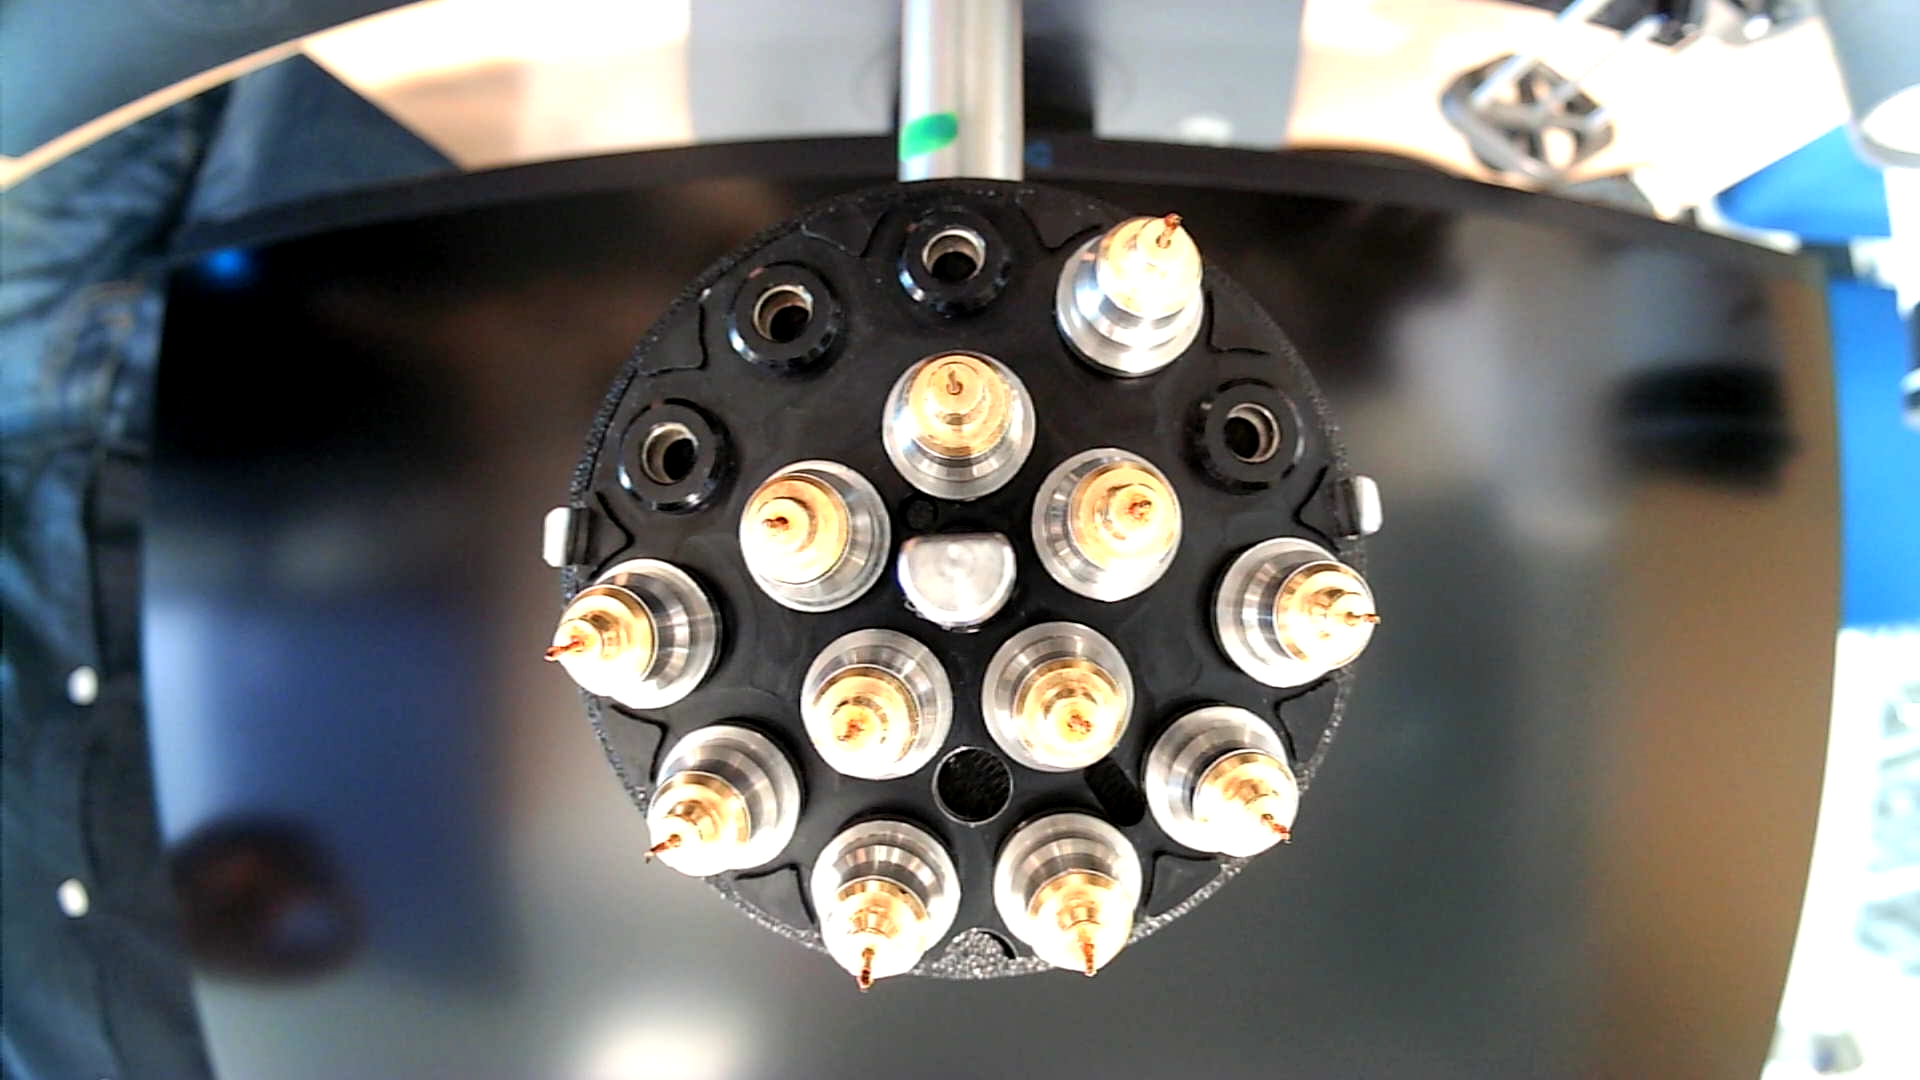empty: (887, 196, 1023, 328), (611, 394, 740, 526), (1178, 376, 1309, 501), (721, 258, 851, 385)
hole: (928, 741, 1013, 831)
pin: (808, 815, 965, 997), (542, 555, 727, 709), (637, 716, 803, 878), (1209, 535, 1381, 692), (992, 808, 1143, 982), (1139, 703, 1302, 862), (1056, 211, 1207, 382), (880, 345, 1040, 502), (794, 625, 953, 782), (978, 618, 1135, 775), (1030, 446, 1184, 605), (738, 451, 893, 611)
rod: (895, 530, 1021, 636)
